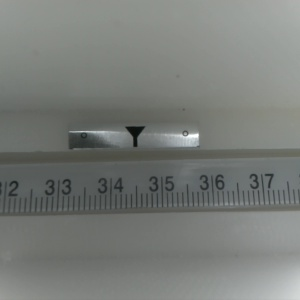2: (7, 180, 17, 197)
3: (61, 179, 72, 195), (44, 180, 55, 196), (97, 178, 107, 194), (148, 176, 158, 192), (248, 173, 258, 189), (198, 175, 208, 190)
4: (113, 178, 124, 193)
5: (164, 176, 174, 191)
6: (214, 174, 224, 190)
7: (263, 174, 273, 189)
finger: (123, 126, 145, 149)
